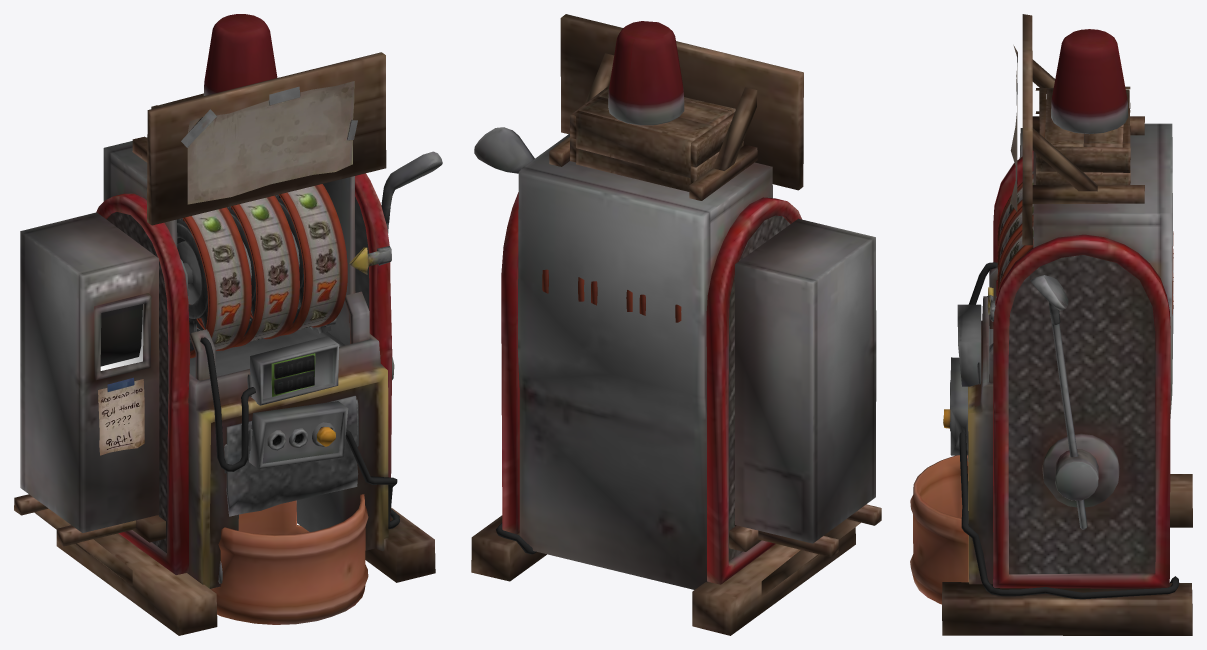
Rendered from slotmachine.caboose_static.glb.
3 views of the same model, side by side, from view 1: azimuth 30°, elevation 25°; view 2: azimuth 150°, elevation 25°; view 3: azimuth 270°, elevation 25° (orthographic).
Visible parts, largest first — view 1: MainUnit, SlotMachineReel, Reel1, Reel2, Reel3, Arm_Static; view 2: MainUnit, Arm_Static; view 3: MainUnit, Arm_Static, Reel3, Reel2, Reel1, SlotMachineReel.
Boxes of the visible parts, <box> form: MainUnit: <box>14,14,435,635</box>; SlotMachineReel: <box>98,81,357,455</box>; Reel1: <box>177,207,251,358</box>; Reel2: <box>182,195,299,347</box>; Reel3: <box>230,184,347,335</box>; Arm_Static: <box>381,151,442,379</box>; MainUnit: <box>471,14,881,635</box>; Arm_Static: <box>474,127,534,173</box>; MainUnit: <box>910,14,1192,635</box>; Arm_Static: <box>1030,275,1098,529</box>; Reel3: <box>997,221,1173,315</box>; Reel2: <box>997,204,1173,280</box>; Reel1: <box>997,174,1173,256</box>; SlotMachineReel: <box>1010,45,1017,211</box>.
Bounding box in the file's own units: 0.9119 × 1.19 × 0.5644.
Materials: 3 (2 with a texture image).
